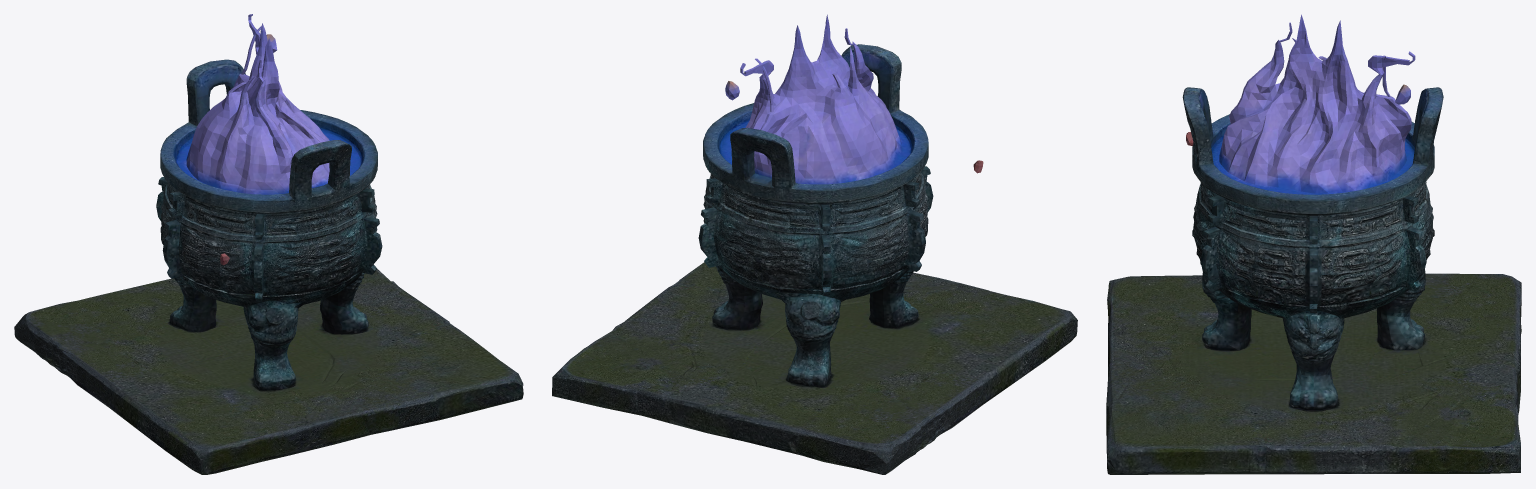
File: bronze_cauldron.glb
The picture shows the model from 3 angles, left to right: view 1: azimuth 30°, elevation 25°; view 2: azimuth 150°, elevation 25°; view 3: azimuth 270°, elevation 25°; orthographic projection. The views are drawn at different scales.
Visible parts, largest first — view 1: tripo_part_14, tripo_part_12, tripo_part_13, tripo_part_7, tripo_part_6, tripo_part_1, tripo_part_21, tripo_part_10, tripo_part_16, tripo_part_11, tripo_part_2, tripo_part_3; view 2: tripo_part_14, tripo_part_12, tripo_part_13, tripo_part_7, tripo_part_16, tripo_part_21, tripo_part_10, tripo_part_1, tripo_part_6, tripo_part_20, tripo_part_11, tripo_part_19; view 3: tripo_part_14, tripo_part_13, tripo_part_12, tripo_part_7, tripo_part_10, tripo_part_16, tripo_part_6, tripo_part_1, tripo_part_21, tripo_part_9, tripo_part_2.
Boxes of the visible parts, bbox=[...] form: tripo_part_14: bbox=[14, 269, 523, 474]; tripo_part_12: bbox=[159, 177, 377, 306]; tripo_part_13: bbox=[176, 14, 360, 194]; tripo_part_7: bbox=[160, 110, 377, 212]; tripo_part_6: bbox=[243, 300, 303, 390]; tripo_part_1: bbox=[289, 140, 351, 199]; tripo_part_21: bbox=[186, 59, 245, 125]; tripo_part_10: bbox=[320, 272, 368, 348]; tripo_part_16: bbox=[169, 277, 216, 332]; tripo_part_11: bbox=[162, 220, 181, 278]; tripo_part_2: bbox=[362, 216, 382, 274]; tripo_part_3: bbox=[251, 243, 263, 301]; tripo_part_14: bbox=[552, 262, 1077, 474]; tripo_part_12: bbox=[703, 168, 928, 301]; tripo_part_13: bbox=[740, 14, 914, 184]; tripo_part_7: bbox=[703, 95, 928, 203]; tripo_part_16: bbox=[781, 294, 840, 387]; tripo_part_21: bbox=[730, 127, 795, 189]; tripo_part_10: bbox=[712, 265, 784, 329]; tripo_part_1: bbox=[841, 44, 901, 113]; tripo_part_6: bbox=[869, 270, 918, 328]; tripo_part_20: bbox=[698, 207, 726, 267]; tripo_part_11: bbox=[905, 211, 925, 271]; tripo_part_19: bbox=[819, 239, 832, 295]; tripo_part_14: bbox=[1106, 273, 1521, 474]; tripo_part_13: bbox=[1219, 14, 1415, 193]; tripo_part_12: bbox=[1192, 181, 1434, 318]; tripo_part_7: bbox=[1192, 114, 1434, 214]; tripo_part_10: bbox=[1263, 311, 1344, 409]; tripo_part_16: bbox=[1377, 270, 1425, 350]; tripo_part_6: bbox=[1202, 273, 1251, 350]; tripo_part_1: bbox=[1182, 87, 1213, 165]; tripo_part_21: bbox=[1412, 87, 1443, 164]; tripo_part_9: bbox=[1305, 248, 1321, 312]; tripo_part_2: bbox=[1200, 226, 1220, 291].
Size of the model in its own units: 0.9908 by 0.9831 by 0.9967.
1 material, 1 textured.
